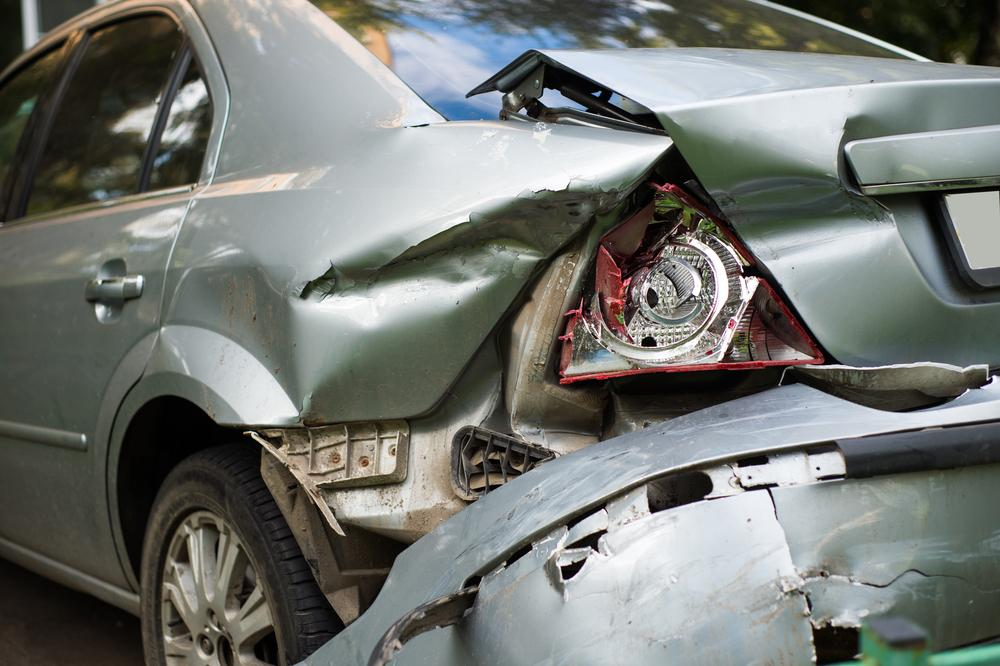crack: (805, 566, 979, 588), (558, 529, 612, 582), (765, 489, 779, 524)
dent: (166, 174, 606, 421), (662, 116, 894, 261)
lamp broken: (546, 146, 829, 384)
scratch: (448, 407, 800, 579), (568, 543, 801, 645)
